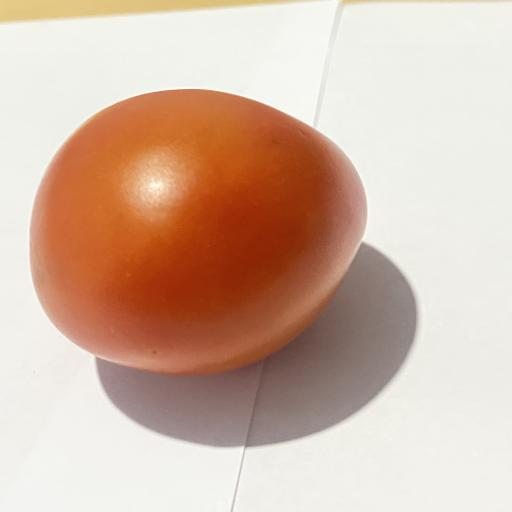ripe: (29, 89, 366, 375)
